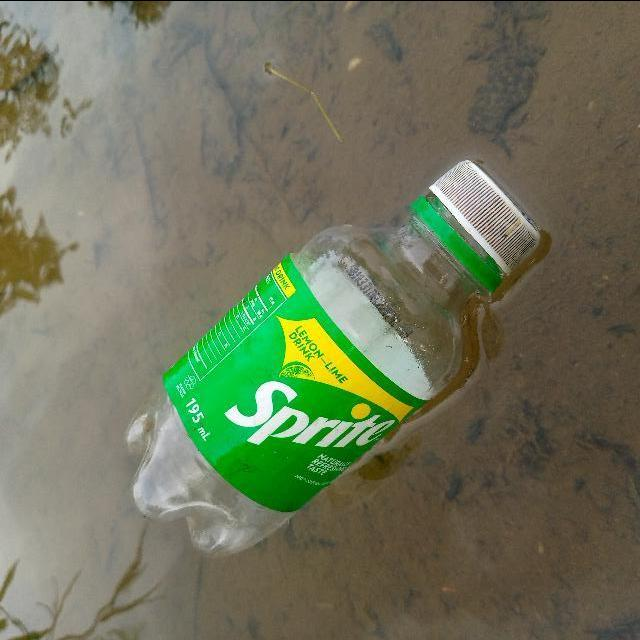Bottle: (113, 145, 556, 569)
